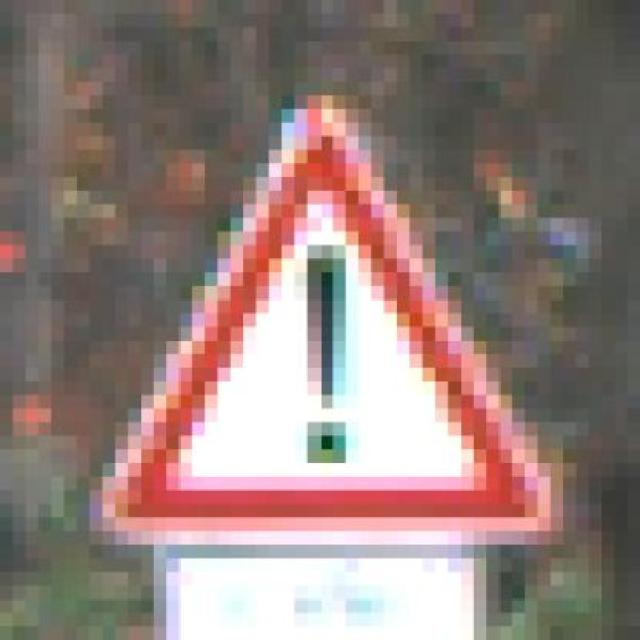Attention Please-: (64, 95, 576, 572)
